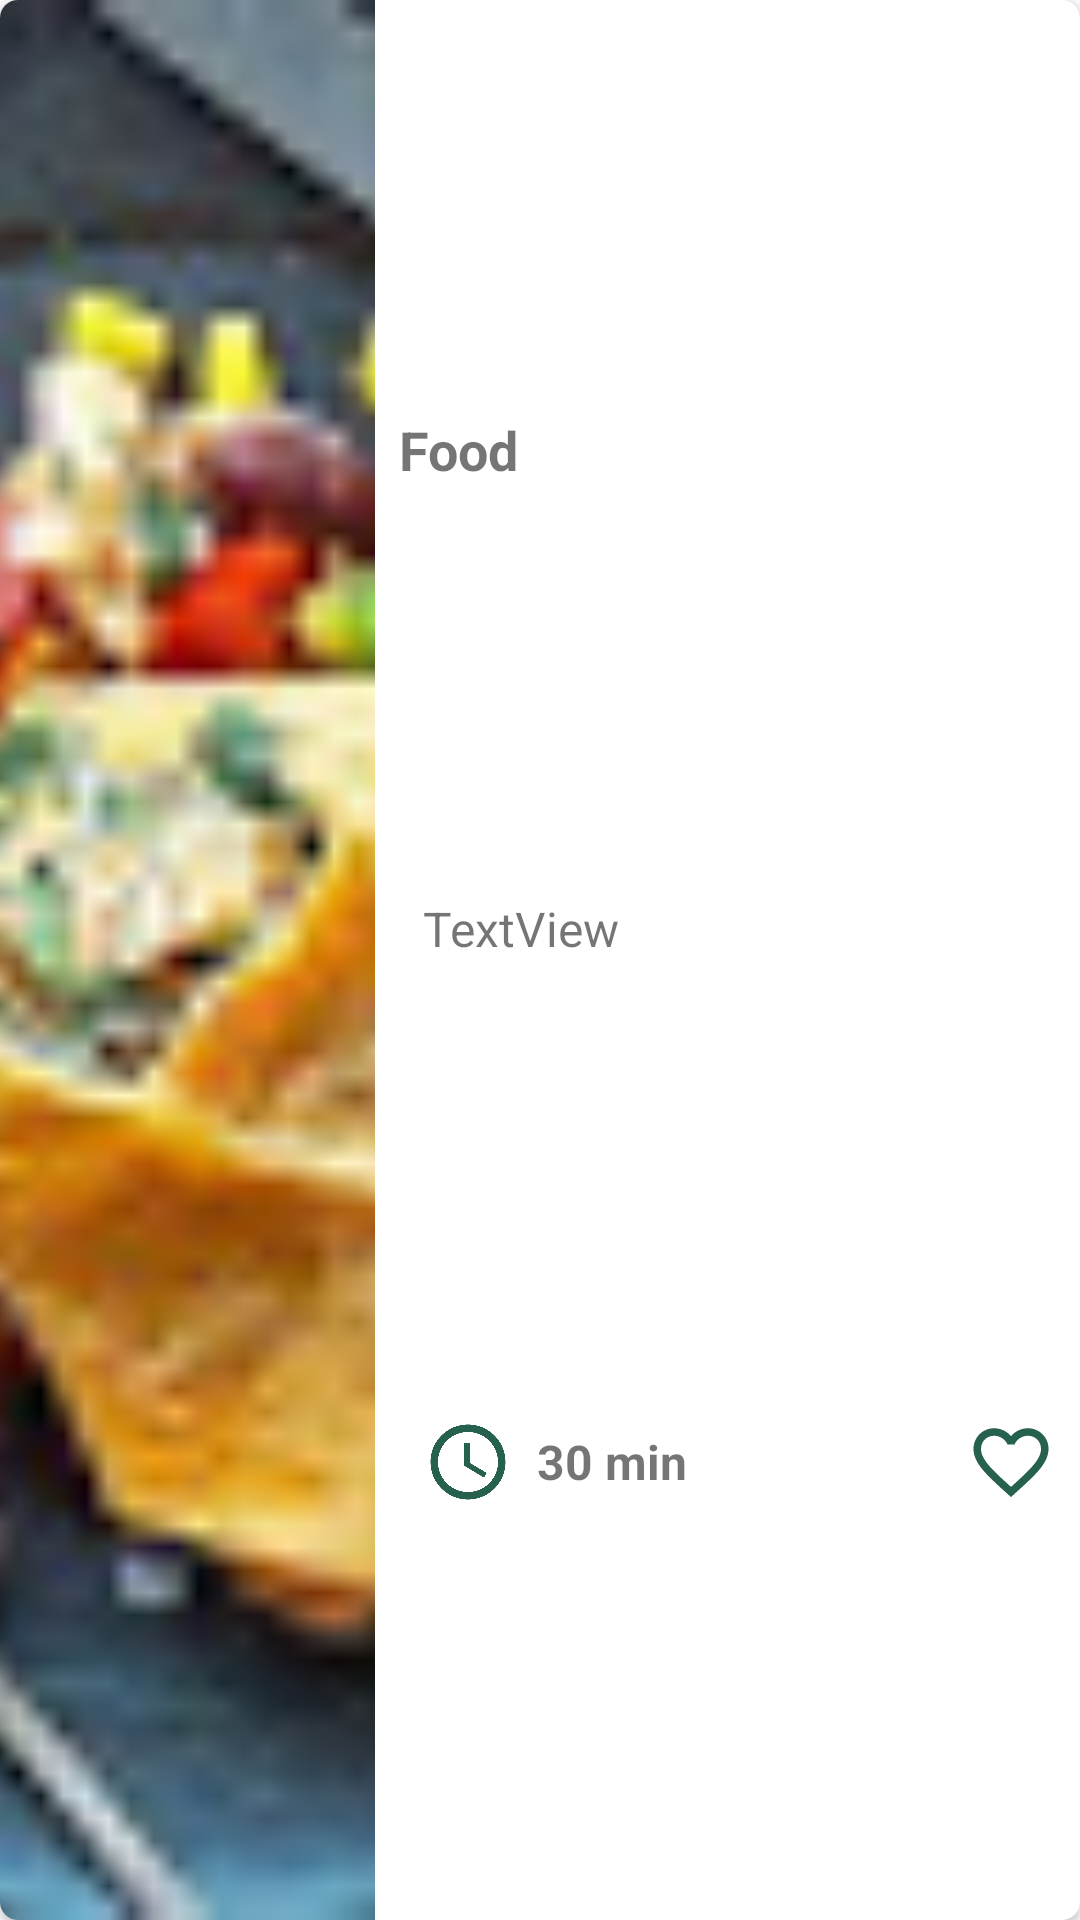

Screen size 1080x1920. Icon name, then its box in pixels as (x1, y1, x2, y2):
access time: (430, 1424, 506, 1500)
favorite false: (973, 1428, 1049, 1497)
